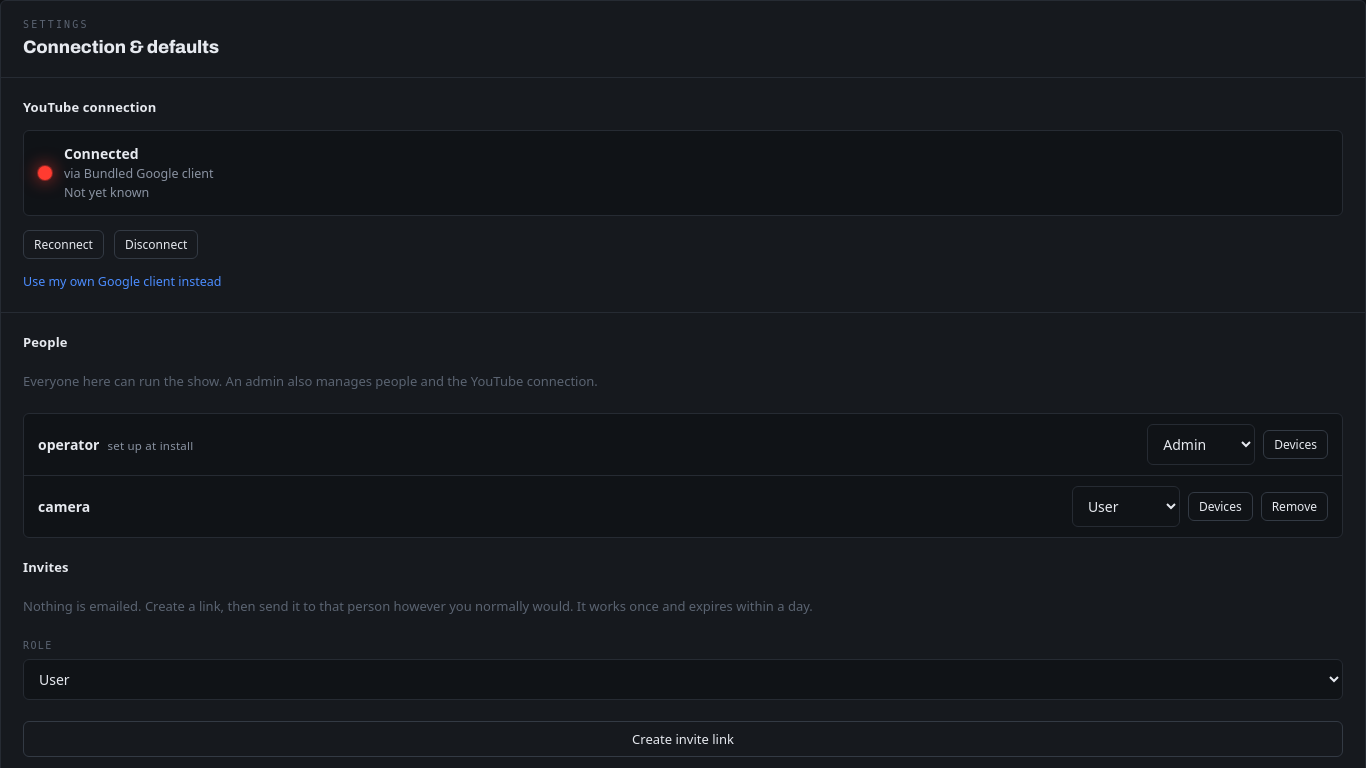
cutting someone off › says so plainly when a person is not signed in anywhere
Expected: the text "camera" is shown, [38, 496, 90, 517]
Click the button "Devices" in the row of "camera". click: (1220, 506)
box: [1188, 492, 1253, 521]
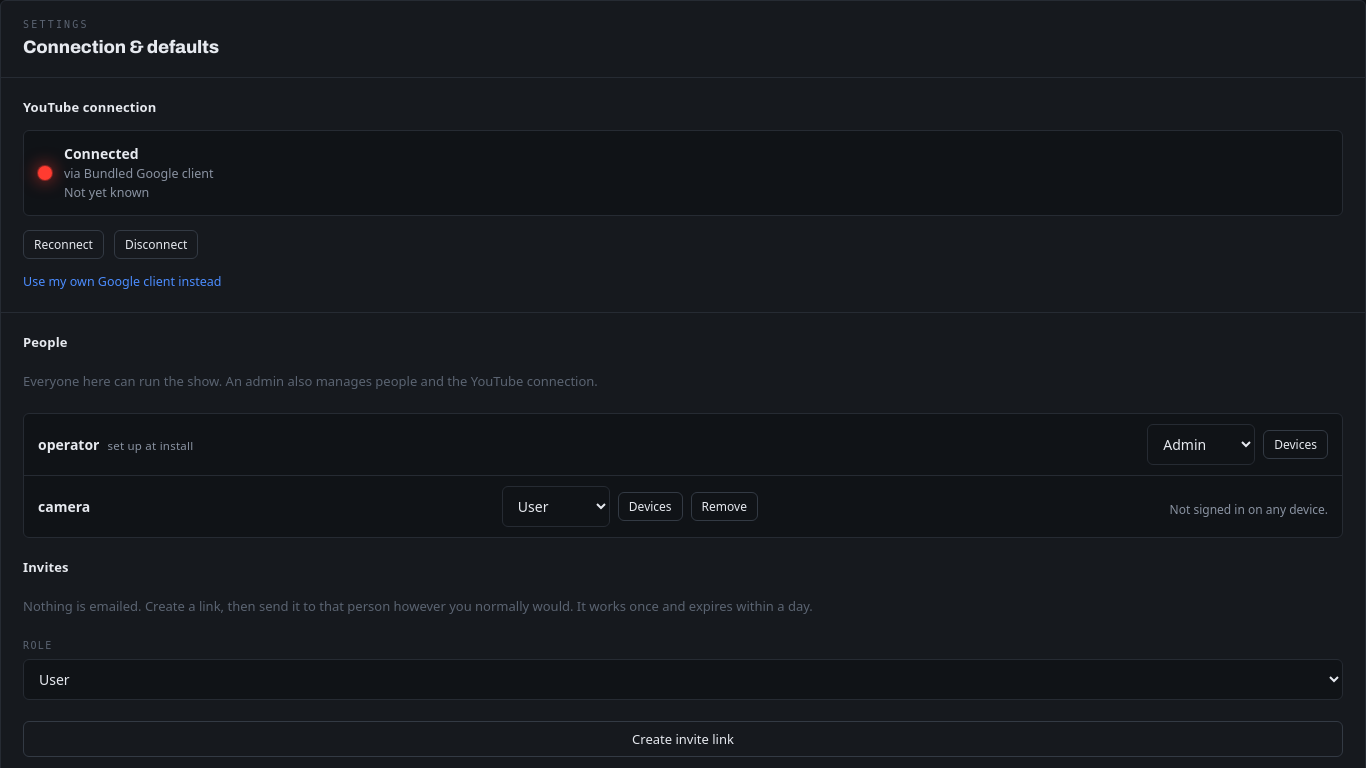
Expected: the list item "Not signed in on any device." is shown, [1170, 501, 1328, 518]
